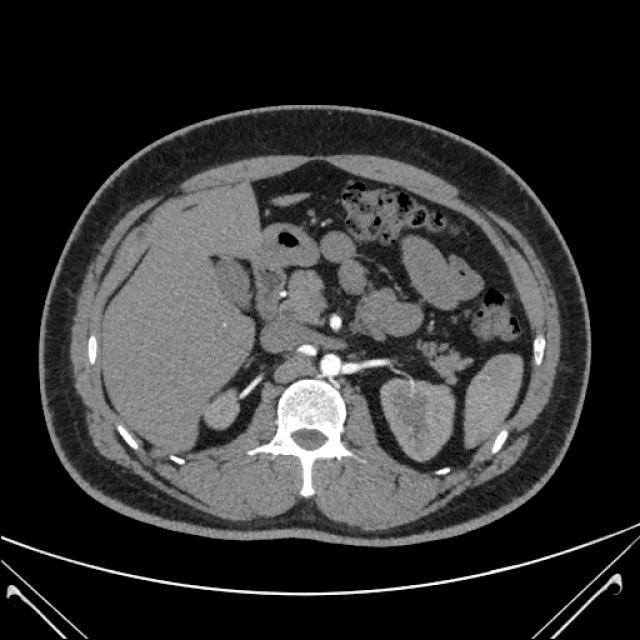Kidney: (0, 102, 582, 528)
